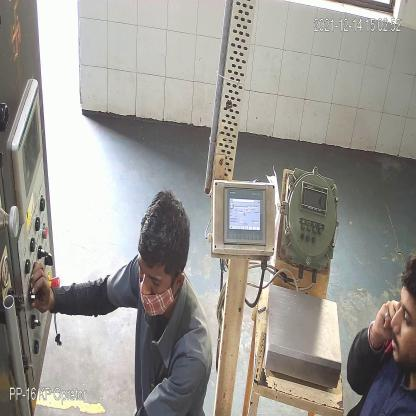no_goggles: (136, 264, 166, 288)
